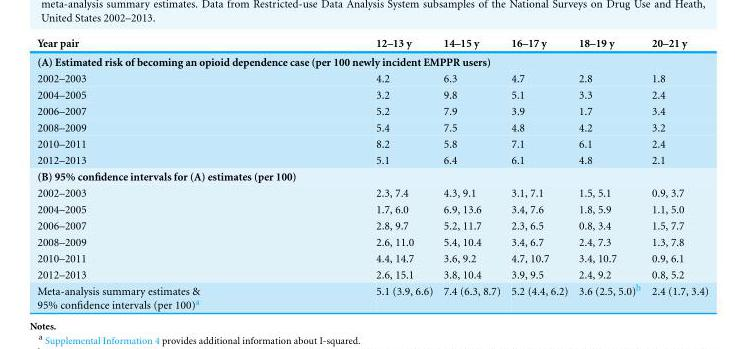table: (36, 36, 708, 310)
table column: (36, 36, 287, 310), (287, 36, 437, 310), (572, 36, 645, 310), (437, 36, 505, 310), (505, 36, 572, 310), (645, 36, 708, 310)
table column header: (36, 36, 708, 52)
table projected row header: (36, 52, 708, 69), (36, 168, 708, 184)
table row: (36, 281, 708, 310), (36, 52, 708, 69), (36, 69, 708, 86), (36, 102, 708, 119), (36, 151, 708, 168), (36, 200, 708, 217), (36, 249, 708, 266), (36, 36, 708, 52), (36, 86, 708, 102), (36, 119, 708, 135), (36, 135, 708, 151), (36, 168, 708, 184), (36, 184, 708, 200), (36, 217, 708, 233), (36, 233, 708, 249), (36, 266, 708, 281)
